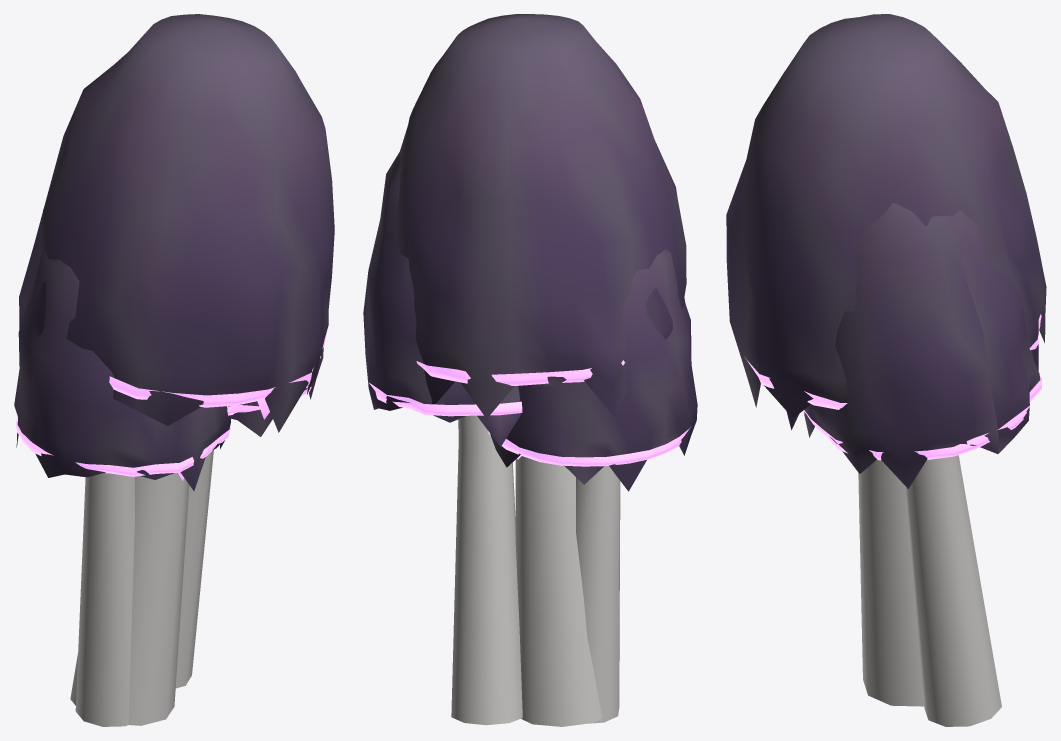
The model's file is inkcap_b.glb.
3 renders of one model, left to right at view 1: azimuth 30°, elevation 25°; view 2: azimuth 150°, elevation 25°; view 3: azimuth 270°, elevation 25°, orthographic. The views are drawn at different scales.
Visible parts, largest first — view 1: inkcap_b; view 2: inkcap_b; view 3: inkcap_b.
Boxes of the visible parts, x1,y1,x2,y2 form: inkcap_b: (14, 14, 334, 726); inkcap_b: (363, 14, 697, 726); inkcap_b: (726, 14, 1046, 726).
Size of the model in its own units: 0.9414 by 2.07 by 0.8775.
